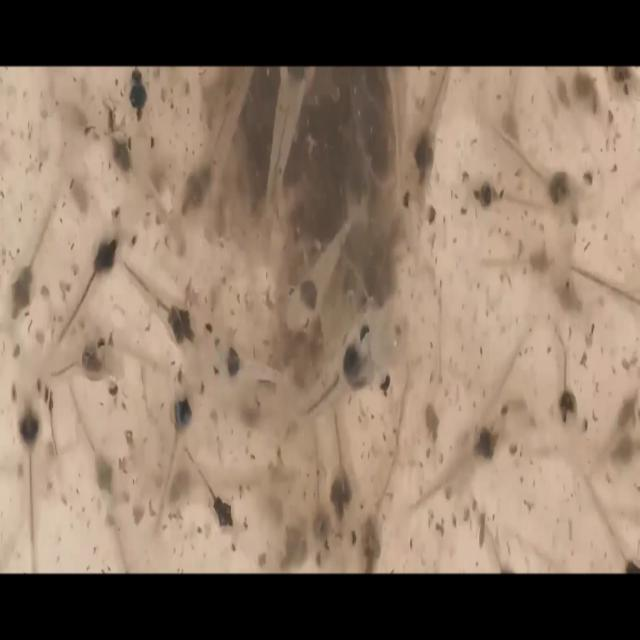shrimp3: (401, 394, 525, 533), (485, 110, 606, 244), (55, 190, 152, 355), (277, 190, 374, 347), (145, 359, 215, 544), (66, 379, 134, 536), (3, 177, 67, 342), (397, 70, 456, 233), (5, 361, 47, 572), (180, 445, 256, 560), (452, 161, 557, 223)
